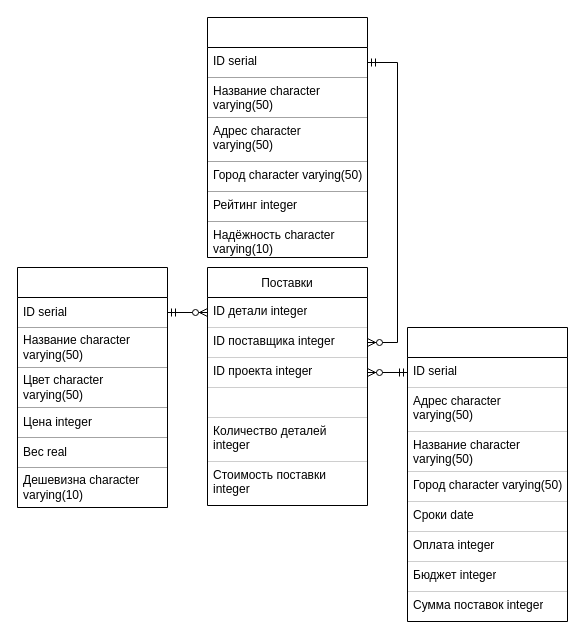
This 585x642 diagram has some shape labels left out. Here are the shapes that lost their labels. From the top down, the box of each, then its label:
(206, 16, 368, 258): Поставщики
(16, 266, 168, 508): Детали
(206, 386, 368, 418): Дата date
(406, 326, 568, 622): Проекты
